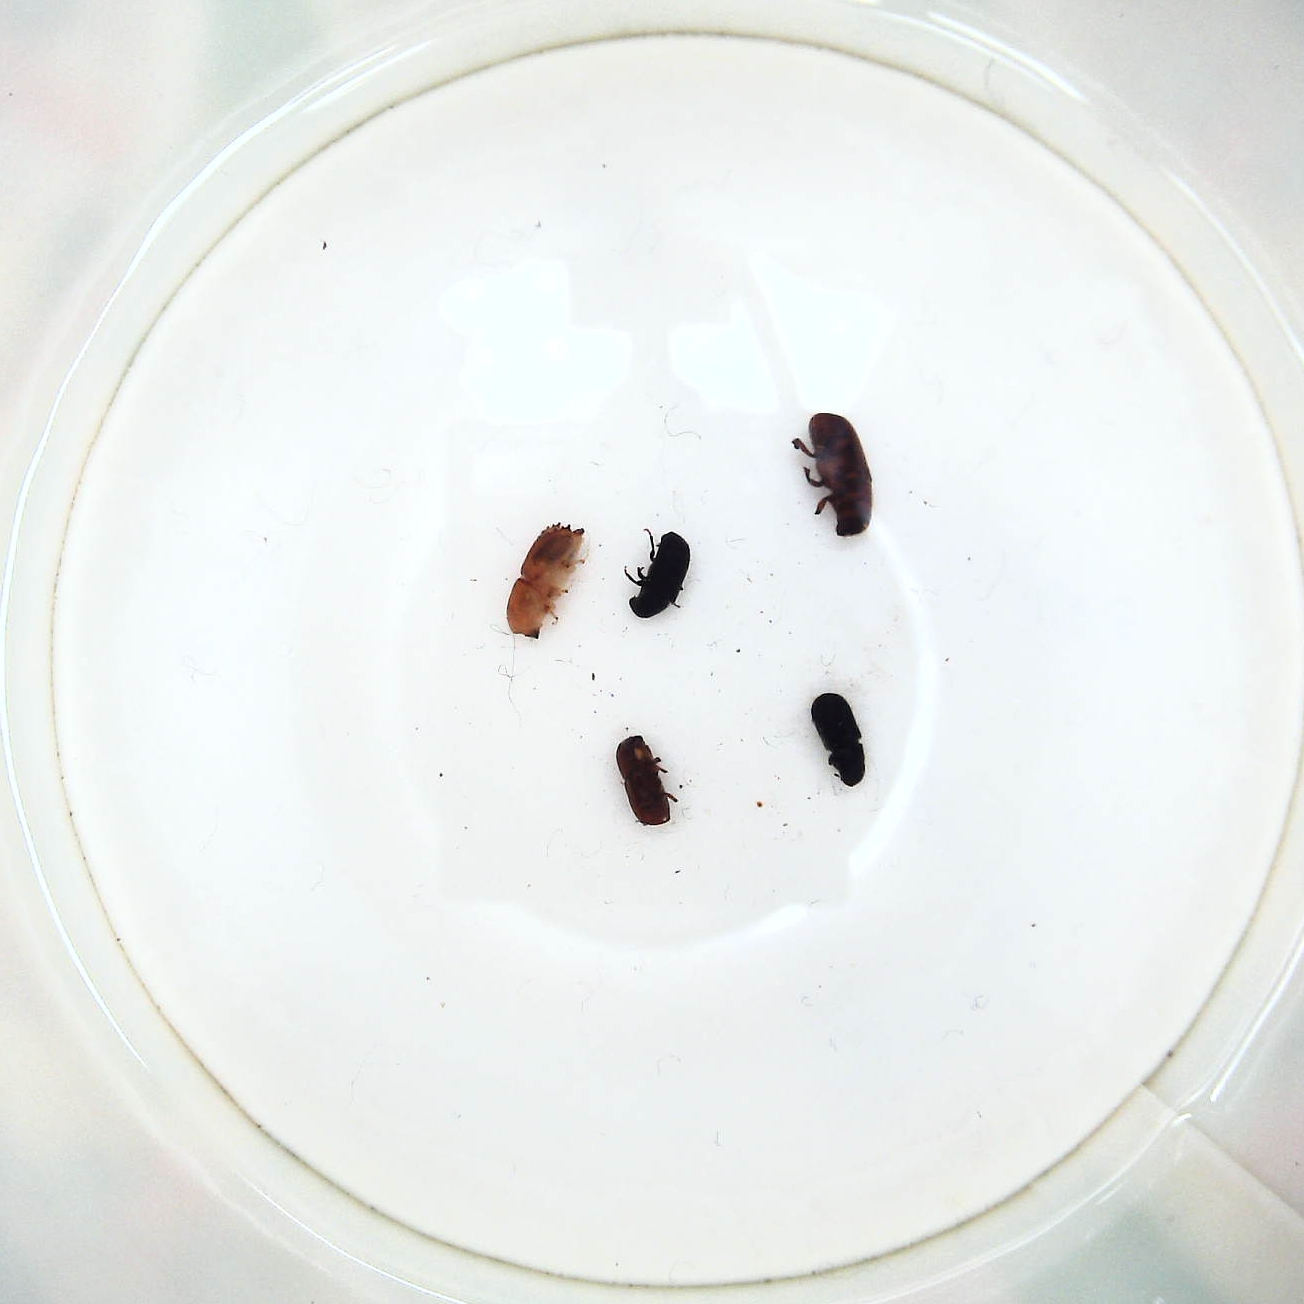Boerner: (505, 525, 590, 642)
Leconte: (795, 407, 880, 546)
armandi: (807, 688, 871, 791)
coleoptera: (622, 522, 691, 617)
linnaeus: (613, 732, 678, 834)
